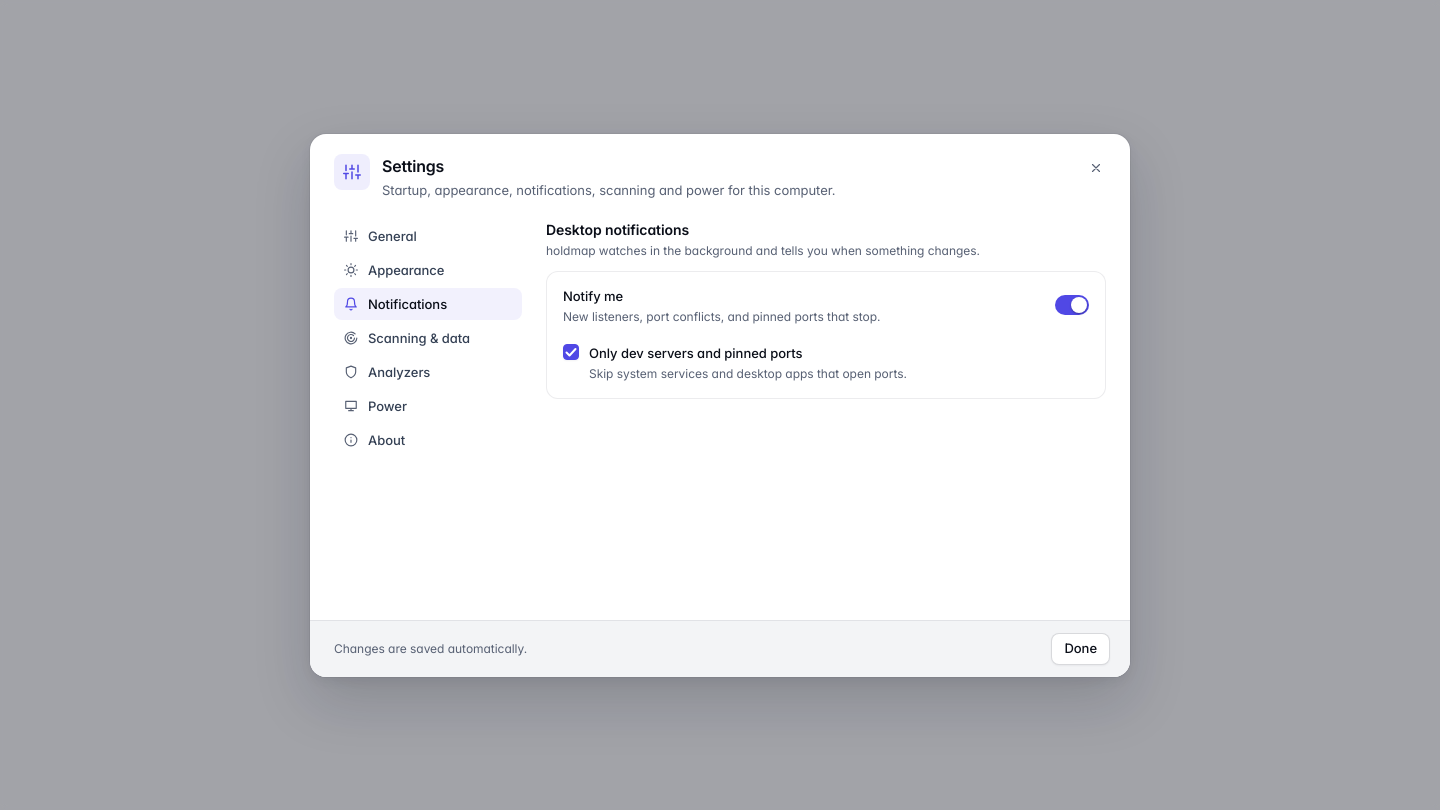
Test: native write failures › restores Notify me after a rejected notification write
Click the switch named "Notify me".
click(1072, 305)  # box left=1055, top=295, right=1089, bottom=315
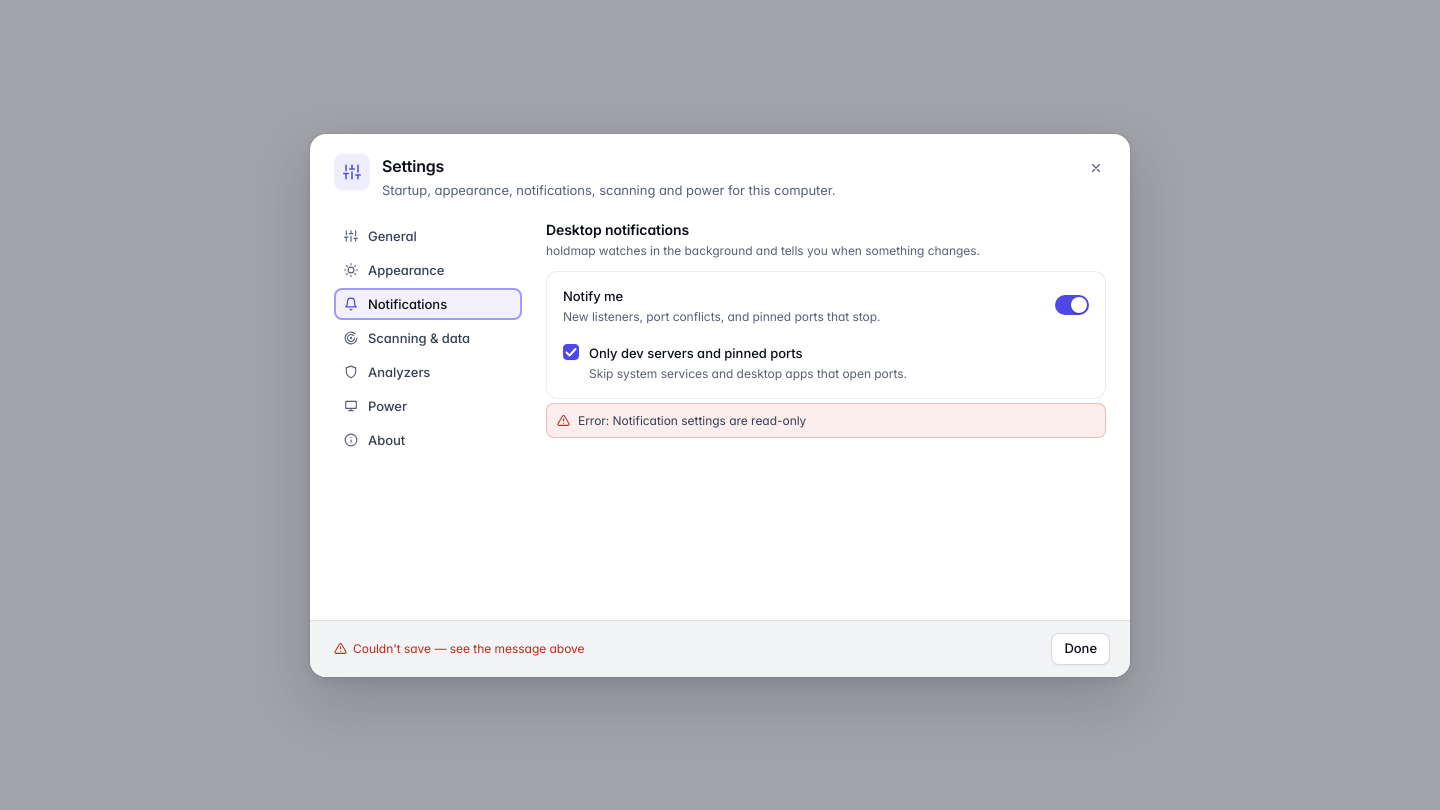
Expected: the checkbox labelled "Only dev servers and pinned ports" is checked, left=563, top=344, right=579, bottom=360
Expected: the message shows "Notification settings are read-only", left=578, top=412, right=806, bottom=428
